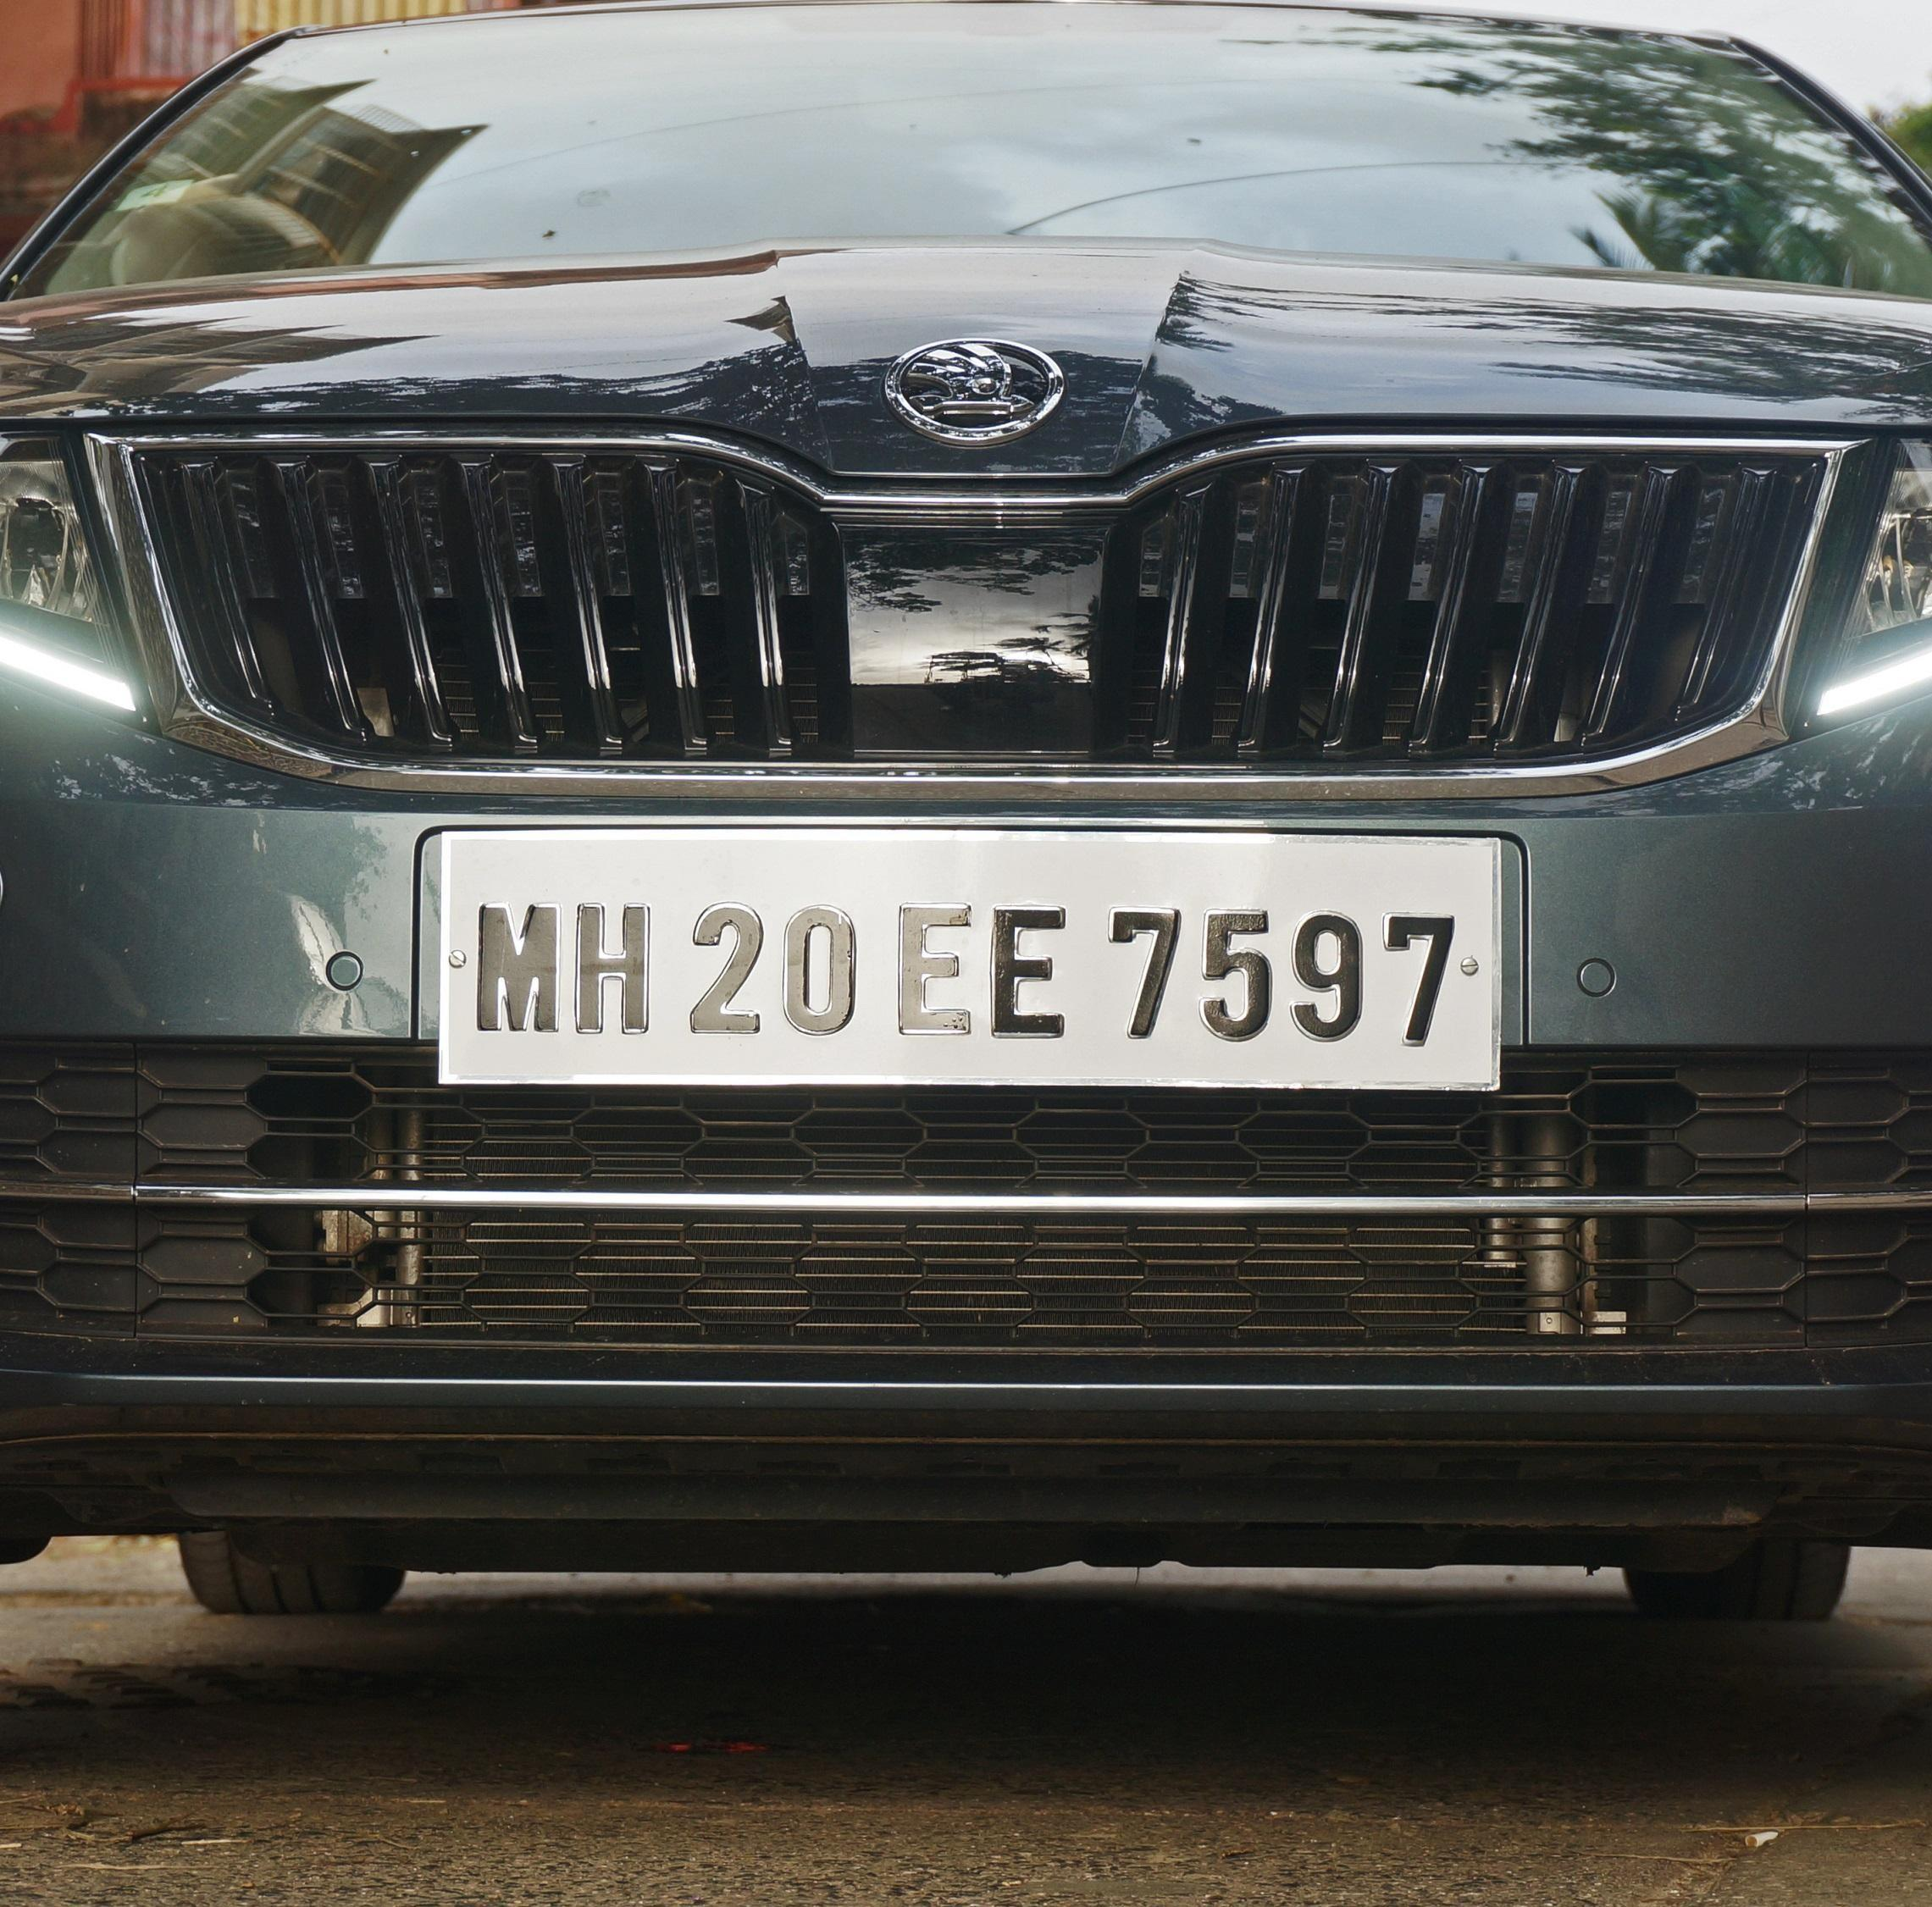License-Plate: (422, 801, 1505, 1076)
